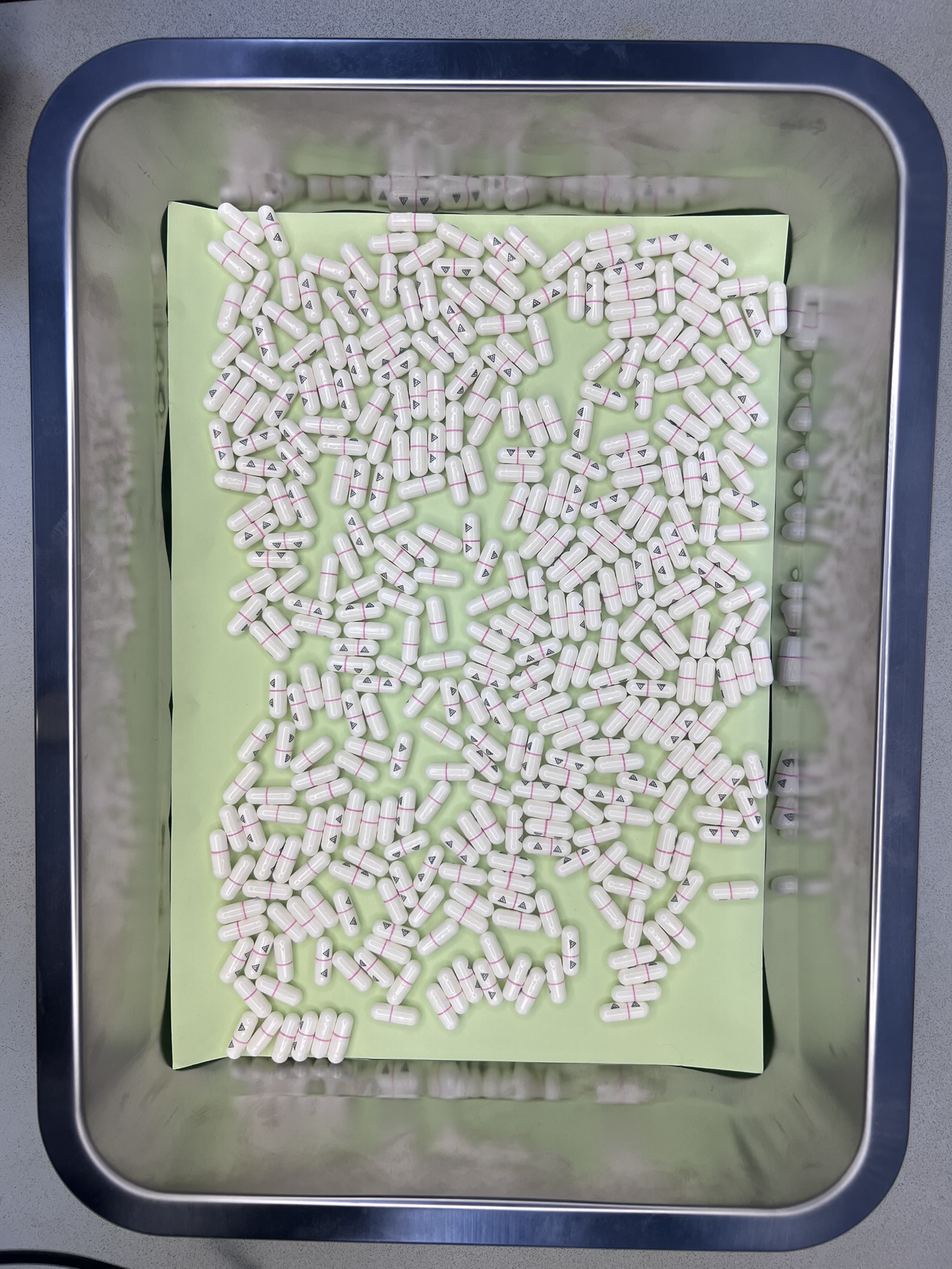Capsule: (207, 239, 254, 285), (642, 313, 684, 363), (221, 230, 272, 271), (503, 224, 548, 269), (478, 342, 523, 387), (541, 239, 587, 283), (545, 540, 590, 584), (217, 203, 265, 244), (444, 353, 485, 401), (342, 277, 381, 327), (582, 338, 626, 382), (483, 257, 527, 301), (440, 276, 484, 320), (691, 342, 734, 387), (222, 761, 265, 806), (211, 324, 253, 370), (657, 325, 699, 371), (228, 494, 275, 535), (275, 440, 316, 487), (339, 242, 379, 290), (202, 365, 242, 413), (235, 352, 283, 392), (372, 349, 420, 389), (248, 620, 292, 663), (233, 974, 276, 1018), (654, 906, 697, 950), (482, 232, 526, 275), (428, 319, 470, 364), (355, 386, 392, 437), (262, 300, 308, 341), (558, 554, 604, 595), (278, 332, 324, 373), (710, 388, 751, 434), (218, 376, 257, 424), (652, 418, 700, 457), (232, 390, 271, 438), (359, 313, 407, 352), (519, 279, 568, 317), (322, 286, 360, 335), (227, 567, 280, 602), (496, 333, 539, 376), (716, 343, 760, 385), (278, 419, 320, 463), (235, 718, 276, 763), (682, 734, 723, 779), (536, 523, 577, 568), (439, 297, 477, 345), (411, 331, 454, 373), (331, 948, 372, 992), (704, 763, 745, 807), (658, 708, 699, 752), (227, 593, 268, 637), (717, 581, 770, 615), (717, 486, 767, 522), (367, 331, 413, 370), (731, 382, 770, 428), (672, 251, 719, 289), (469, 276, 516, 314), (219, 936, 257, 983), (706, 544, 753, 582), (689, 556, 736, 594), (233, 513, 280, 551), (285, 479, 320, 530), (219, 853, 256, 901), (456, 809, 493, 857), (668, 584, 716, 621), (618, 483, 655, 531), (353, 947, 395, 989), (587, 841, 629, 883), (438, 826, 480, 868), (690, 754, 732, 796), (632, 494, 668, 543), (289, 850, 332, 891), (518, 517, 559, 560), (285, 895, 325, 939), (261, 605, 301, 649), (601, 694, 641, 738), (642, 920, 681, 965), (665, 403, 710, 442), (688, 699, 727, 744), (619, 641, 664, 680), (651, 610, 690, 655), (264, 564, 309, 603), (653, 572, 703, 607), (689, 239, 735, 277), (675, 277, 722, 314), (467, 396, 501, 447), (464, 367, 498, 418), (706, 611, 742, 659), (682, 385, 723, 427), (268, 902, 308, 945), (373, 533, 416, 573), (723, 428, 767, 467), (720, 299, 753, 351), (717, 448, 756, 492), (676, 299, 720, 338), (290, 735, 334, 774), (622, 697, 661, 741), (593, 515, 637, 554), (396, 529, 440, 568), (641, 700, 679, 745), (589, 885, 626, 931), (741, 296, 775, 346), (258, 207, 292, 257), (513, 966, 547, 1016), (437, 222, 484, 258), (652, 777, 688, 824), (640, 629, 680, 671), (560, 787, 603, 826), (464, 723, 507, 762), (619, 598, 657, 642), (576, 526, 620, 564), (225, 1010, 259, 1059), (252, 832, 286, 881), (559, 449, 608, 483), (408, 883, 445, 928), (415, 780, 452, 825), (657, 738, 694, 783), (373, 558, 418, 595), (263, 379, 299, 425), (462, 744, 503, 784), (416, 918, 459, 956), (402, 676, 440, 719), (254, 973, 302, 1007), (250, 1010, 284, 1058), (342, 843, 390, 877), (377, 876, 409, 927), (505, 680, 553, 714), (668, 869, 704, 914), (241, 270, 274, 319), (412, 843, 445, 892), (343, 509, 376, 558), (386, 959, 421, 1005), (442, 899, 488, 934), (505, 603, 551, 638), (458, 678, 490, 728), (580, 488, 630, 520), (399, 242, 446, 276), (436, 967, 470, 1014), (375, 654, 422, 688), (510, 658, 557, 692), (302, 884, 339, 927), (216, 281, 246, 334), (250, 314, 280, 367), (335, 573, 383, 606), (364, 502, 415, 533), (499, 481, 530, 532), (736, 600, 771, 645), (382, 829, 431, 861), (659, 521, 691, 570), (425, 984, 459, 1030), (555, 844, 601, 878), (472, 799, 506, 845), (334, 749, 380, 783), (466, 621, 512, 655), (206, 418, 236, 470), (473, 957, 504, 1007), (550, 719, 600, 750), (668, 495, 699, 545), (619, 857, 667, 889), (538, 394, 568, 445), (519, 396, 549, 447), (741, 750, 771, 801), (449, 882, 494, 916), (587, 662, 638, 692), (559, 473, 589, 524), (502, 953, 533, 1002), (266, 478, 297, 527), (238, 800, 267, 852), (466, 585, 513, 617), (272, 834, 302, 884), (453, 955, 483, 1005), (513, 637, 563, 667), (580, 380, 628, 411), (733, 784, 764, 832), (329, 859, 377, 890), (244, 930, 275, 978), (364, 933, 412, 964), (525, 692, 573, 723), (481, 686, 514, 731), (598, 429, 651, 457), (311, 357, 339, 410), (585, 224, 638, 252), (668, 830, 696, 883), (300, 253, 351, 282), (368, 415, 397, 466), (519, 483, 548, 534), (232, 426, 281, 456), (619, 338, 646, 392), (320, 317, 347, 371), (416, 523, 463, 554), (377, 586, 424, 617), (581, 244, 633, 272), (604, 257, 656, 285), (485, 849, 537, 877), (290, 763, 342, 791), (343, 335, 371, 387), (419, 717, 463, 750), (289, 1012, 318, 1062), (647, 536, 676, 586), (466, 777, 514, 807), (605, 445, 658, 472), (333, 369, 360, 422), (218, 915, 269, 943), (486, 867, 537, 895), (286, 680, 314, 731), (273, 1012, 302, 1061), (537, 706, 586, 735), (570, 640, 599, 689), (490, 613, 533, 646), (360, 694, 390, 741), (479, 932, 509, 979), (469, 645, 516, 675), (527, 314, 553, 368), (398, 278, 425, 330), (218, 803, 246, 853), (551, 643, 579, 693), (655, 366, 703, 395), (390, 860, 419, 908), (463, 661, 511, 690), (333, 532, 362, 580), (214, 471, 267, 497), (717, 274, 770, 300), (637, 232, 690, 258), (215, 898, 268, 924), (297, 271, 323, 324), (460, 446, 487, 497), (731, 646, 758, 697), (544, 748, 595, 775), (277, 259, 302, 314), (371, 919, 420, 947), (502, 551, 530, 600), (284, 592, 333, 620), (607, 944, 657, 971), (311, 1010, 338, 1060), (596, 566, 623, 616), (365, 231, 421, 255), (305, 777, 353, 805), (291, 614, 342, 640), (370, 1002, 421, 1028), (536, 890, 562, 941), (545, 467, 571, 518), (659, 444, 684, 497), (295, 363, 320, 416), (328, 1012, 355, 1061), (343, 736, 392, 763), (475, 312, 527, 337), (570, 399, 595, 451), (653, 821, 678, 873), (301, 806, 327, 856), (438, 861, 488, 887), (341, 687, 367, 737), (537, 763, 587, 789), (611, 464, 663, 489), (397, 474, 445, 501), (578, 684, 626, 711), (388, 378, 412, 432), (333, 890, 361, 936), (389, 732, 414, 783), (631, 548, 656, 599), (299, 662, 325, 711), (488, 887, 537, 913), (617, 771, 666, 797), (697, 440, 721, 493), (368, 460, 392, 513), (416, 267, 439, 322), (766, 280, 788, 337), (584, 270, 606, 327), (605, 277, 655, 302), (615, 558, 640, 608), (716, 657, 741, 707), (504, 723, 529, 773), (330, 455, 354, 507), (691, 804, 743, 828), (574, 821, 622, 847), (491, 909, 540, 934), (317, 434, 368, 458), (347, 458, 371, 509), (342, 787, 366, 838), (357, 800, 381, 851), (521, 798, 572, 822), (698, 494, 721, 547), (406, 367, 429, 420), (499, 384, 521, 439), (750, 638, 774, 688), (320, 803, 344, 853), (439, 676, 463, 726), (233, 456, 287, 478), (378, 252, 399, 308), (584, 782, 633, 806), (606, 298, 657, 321), (413, 565, 464, 588), (544, 953, 567, 1004), (526, 565, 549, 616), (477, 539, 503, 584), (716, 521, 769, 543), (385, 212, 438, 234), (681, 455, 703, 508), (608, 316, 656, 340), (616, 962, 664, 986), (688, 609, 712, 657), (445, 456, 468, 506), (604, 876, 650, 901), (521, 732, 544, 782), (256, 803, 308, 825), (432, 257, 484, 279), (655, 260, 676, 314), (243, 880, 292, 903), (525, 817, 574, 840), (604, 804, 653, 827), (416, 650, 467, 672), (623, 897, 645, 948), (426, 421, 446, 477), (697, 825, 750, 846), (244, 785, 297, 806), (425, 596, 449, 642), (600, 999, 648, 1022), (567, 267, 587, 322), (208, 829, 230, 879), (522, 835, 572, 857), (597, 618, 619, 668), (268, 668, 289, 720), (426, 370, 446, 424), (342, 621, 396, 641), (611, 983, 660, 1005), (707, 881, 758, 902), (318, 551, 339, 602), (326, 655, 377, 676), (565, 592, 586, 643), (262, 531, 315, 551), (273, 932, 294, 982), (395, 787, 416, 837), (274, 719, 295, 769), (391, 430, 411, 482), (512, 780, 561, 801), (322, 671, 343, 720), (596, 753, 645, 774), (301, 417, 352, 437), (634, 368, 654, 419), (313, 936, 333, 987), (351, 674, 402, 694), (582, 581, 602, 632), (548, 589, 568, 640), (676, 659, 698, 705), (400, 616, 421, 664), (377, 796, 398, 844), (246, 550, 299, 569), (694, 656, 715, 703), (494, 465, 543, 485), (446, 400, 464, 454), (410, 426, 429, 477), (505, 803, 524, 854), (580, 737, 631, 756), (337, 601, 383, 622), (560, 926, 580, 974), (425, 762, 475, 781), (330, 637, 380, 656), (462, 513, 481, 562), (629, 679, 677, 698), (497, 446, 545, 464)
